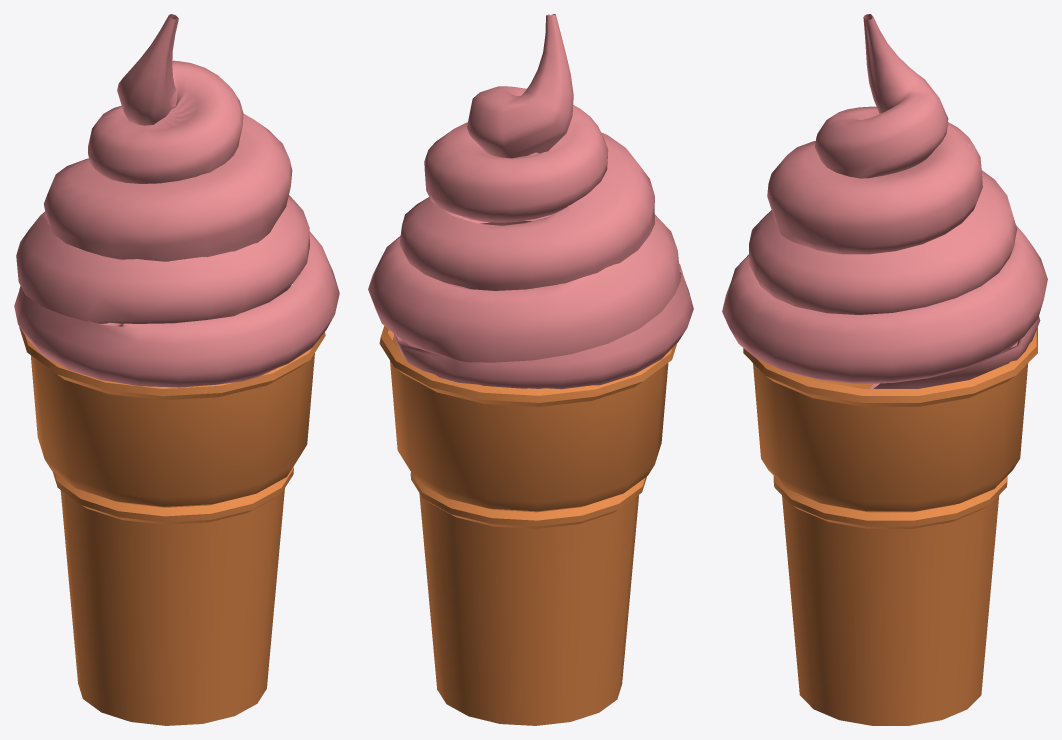
File: icecream.glb
3 renders of one model, left to right at view 1: azimuth 30°, elevation 25°; view 2: azimuth 150°, elevation 25°; view 3: azimuth 270°, elevation 25°, orthographic. The views are drawn at different scales.
Visible parts, largest first — view 1: CONE LP, IC BU.001; view 2: CONE LP, IC BU.001; view 3: CONE LP, IC BU.001.
Boxes of the visible parts, left/top/right/bottom form: CONE LP: left=19, top=327, right=325, bottom=725; IC BU.001: left=14, top=14, right=339, bottom=387; CONE LP: left=379, top=326, right=676, bottom=725; IC BU.001: left=368, top=14, right=693, bottom=389; CONE LP: left=743, top=327, right=1037, bottom=725; IC BU.001: left=722, top=14, right=1047, bottom=388.
Bounding box in the file's own units: 2.13 × 4.88 × 2.16.
